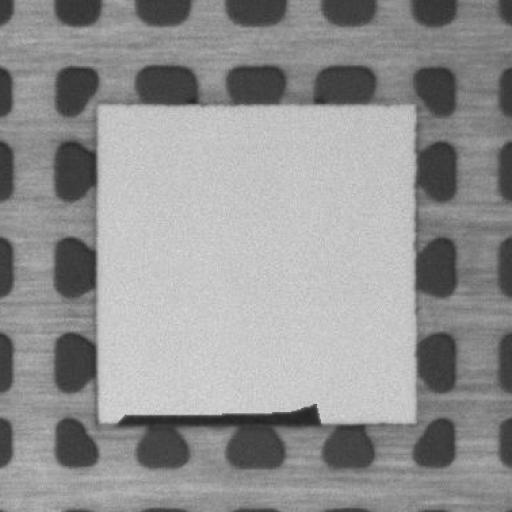DIE_BROKEN: (115, 398, 325, 426)
